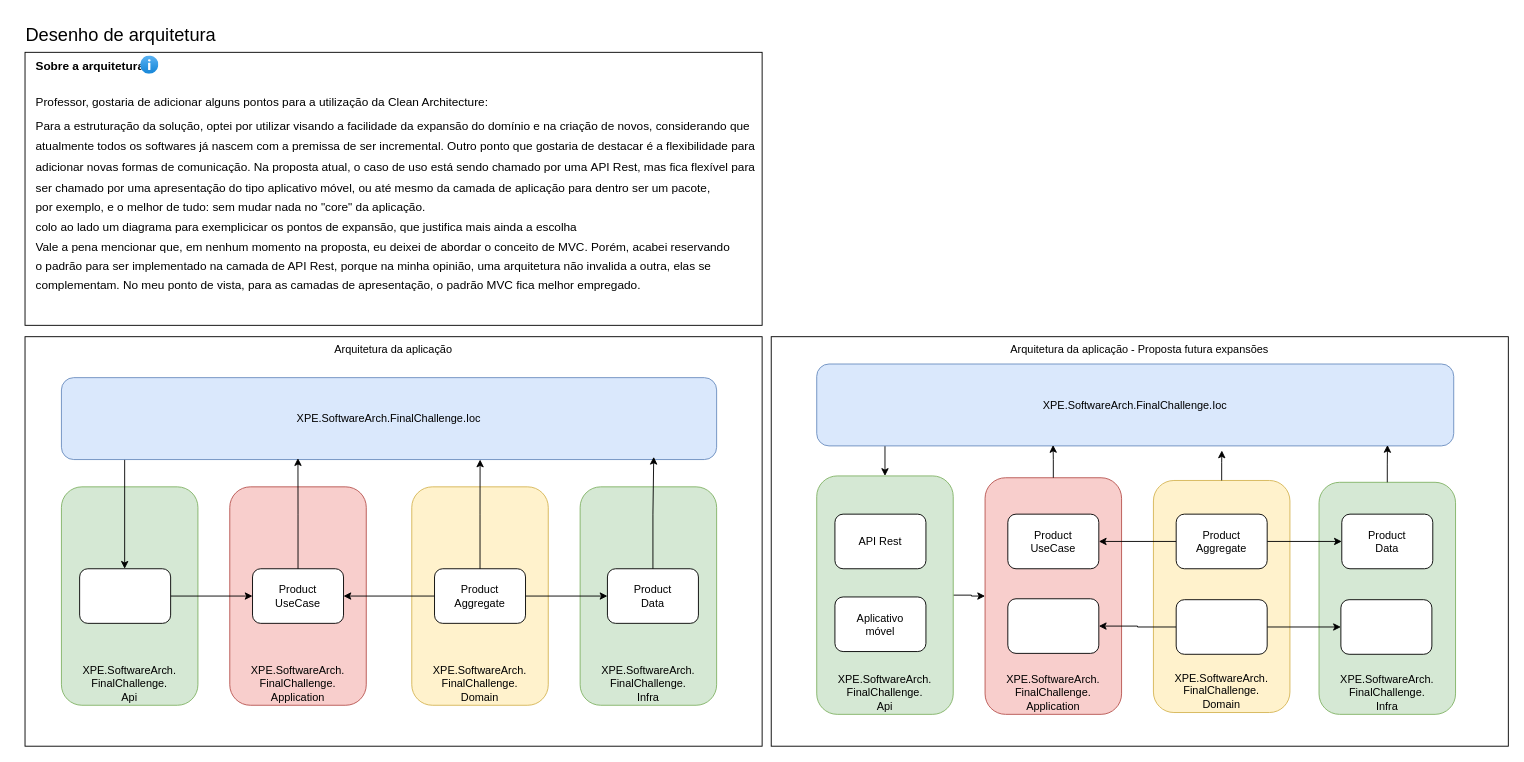
Some shapes in this 1524 by 762 pixel diagram are drawn without their labels. The centre of each missing label's shape, as x and y in pixels:
"Client Aggregate" goes at (1221,626).
"Client Data" goes at (1386,626).
"Client UseCase" goes at (1053,625).
"Product API Rest" goes at (125,595).
